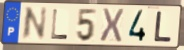4: (127, 9, 148, 44)
5: (76, 7, 98, 43)
L: (152, 10, 173, 43), (50, 9, 69, 41)
N: (20, 6, 49, 42)
X: (98, 7, 125, 44)
